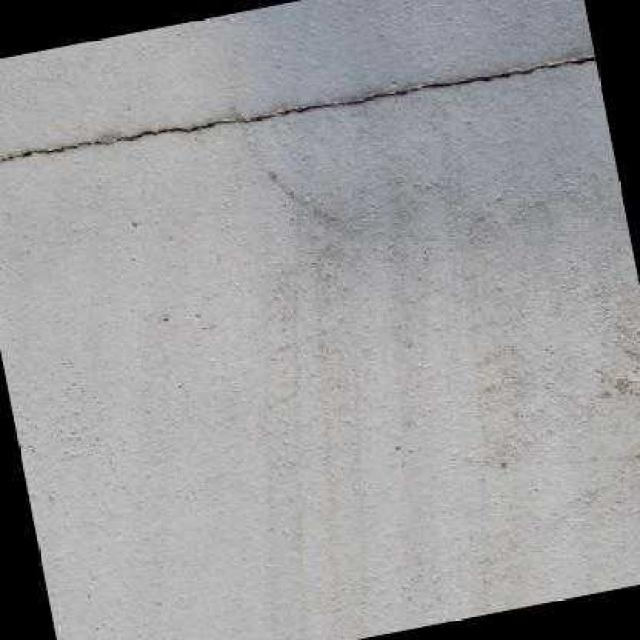D00: (0, 51, 595, 160)
